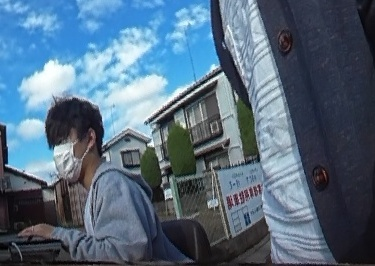person: (37, 95, 169, 266)
